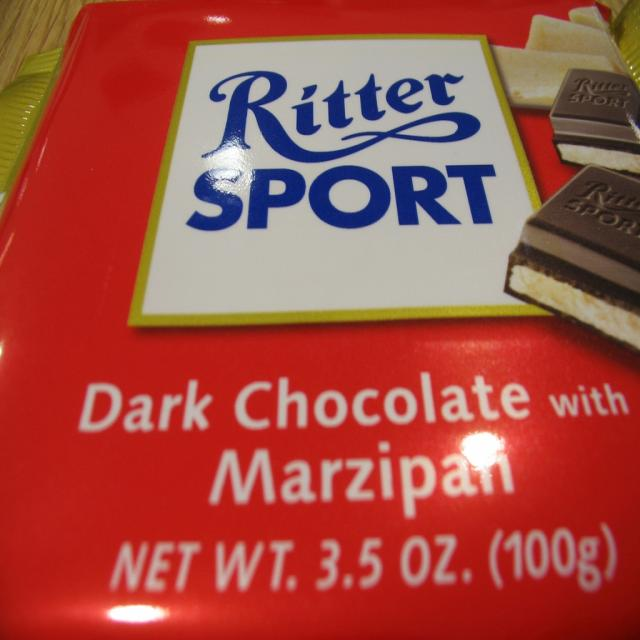rittersport: (128, 33, 568, 324)
